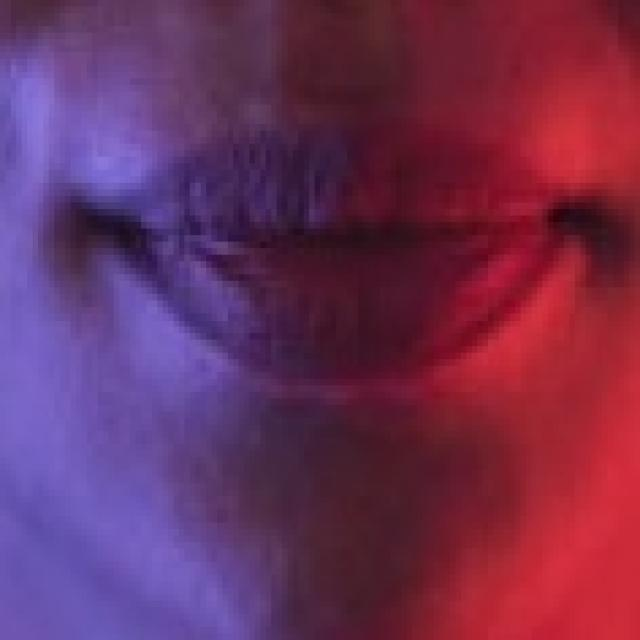closed-mouth: (65, 98, 613, 412)
